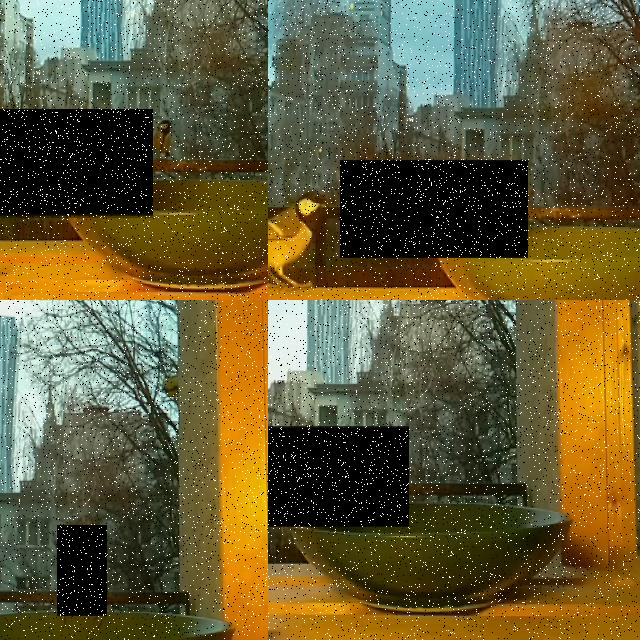Bogatka: (0, 109, 153, 217), (268, 426, 409, 526), (268, 185, 330, 295)
Wrobel: (340, 160, 528, 258), (57, 525, 107, 616)
